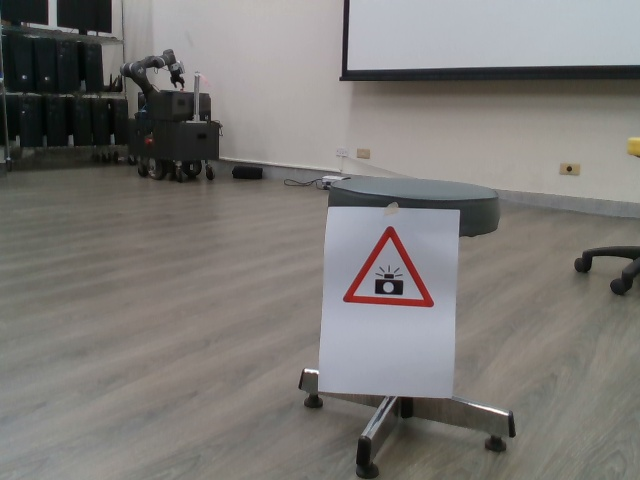camera: (344, 224, 435, 313)
